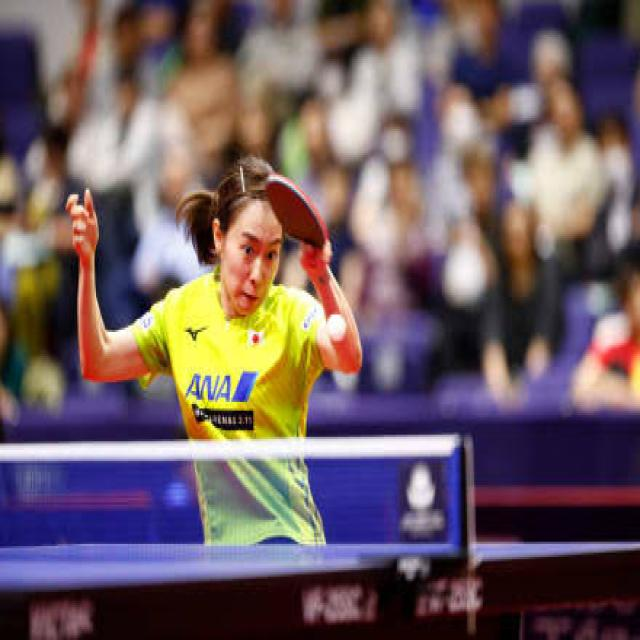TT Net: (0, 425, 474, 574)
TT Racket: (257, 154, 338, 254)
TT Table: (0, 542, 637, 593)
